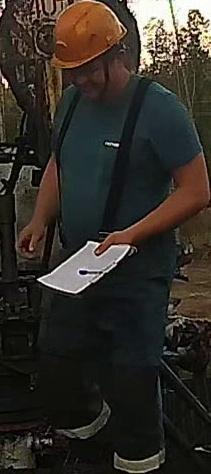helmet: (49, 0, 128, 70)
